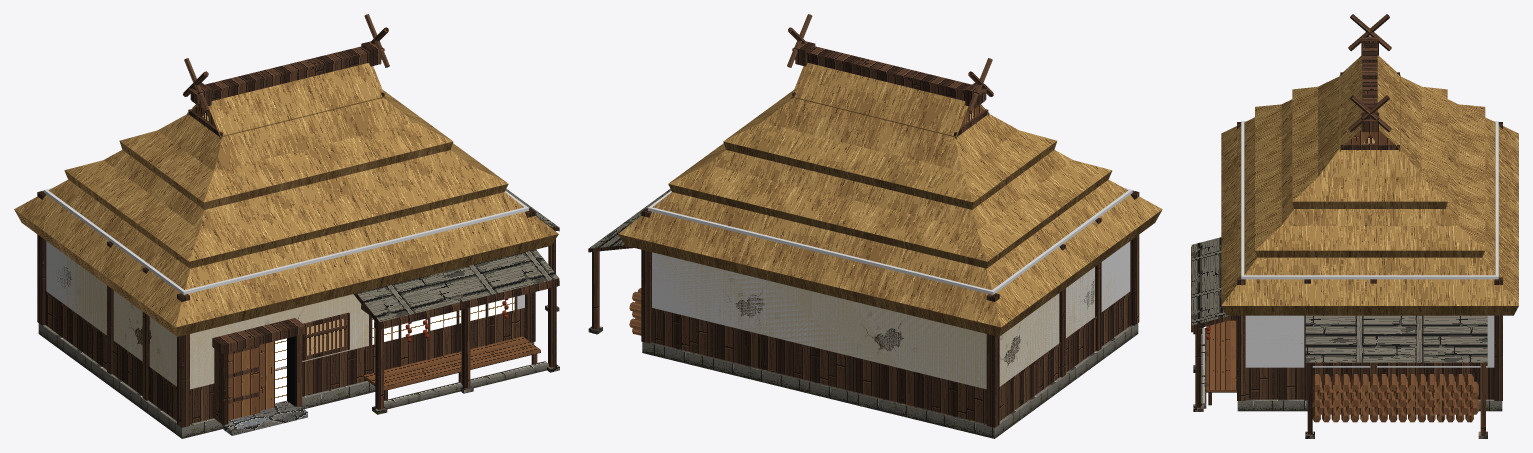
Rendered from JP_Farm_Minka_A.glb.
The picture shows the model from 3 angles, left to right: view 1: azimuth 30°, elevation 25°; view 2: azimuth 150°, elevation 25°; view 3: azimuth 270°, elevation 25°; orthographic projection. The views are drawn at different scales.
Parts seen in each view (by area): view 1: JP_Farm_Minka_A, COL_JP_Farm_Minka_A; view 2: JP_Farm_Minka_A, COL_JP_Farm_Minka_A; view 3: JP_Farm_Minka_A, COL_JP_Farm_Minka_A.
Part boxes in pixels (left/top/right/bottom): JP_Farm_Minka_A: left=14, top=14, right=559, bottom=438; COL_JP_Farm_Minka_A: left=44, top=188, right=528, bottom=388; JP_Farm_Minka_A: left=588, top=14, right=1162, bottom=438; COL_JP_Farm_Minka_A: left=648, top=188, right=1132, bottom=388; JP_Farm_Minka_A: left=1191, top=14, right=1518, bottom=438; COL_JP_Farm_Minka_A: left=1241, top=121, right=1498, bottom=367.
Size of the model in its own units: 12.45 by 8.31 by 8.92.
16 materials, 16 textured.
